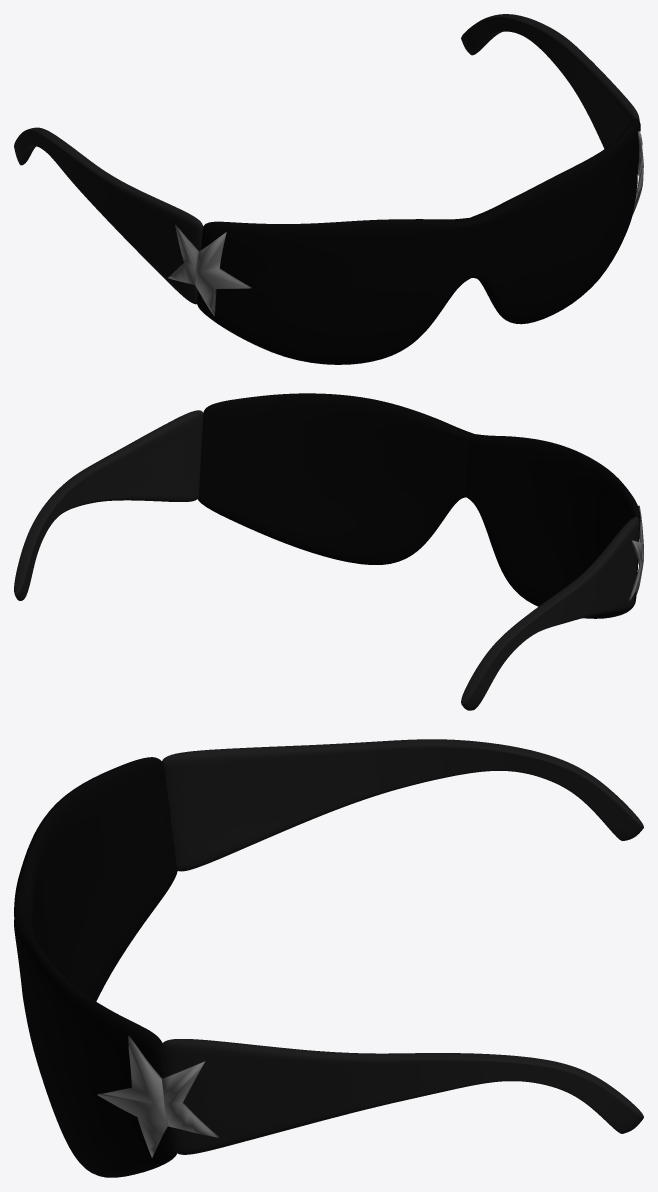
The model's file is prada_star.glb.
3 renders of one model, top to bottom at view 1: azimuth 30°, elevation 25°; view 2: azimuth 150°, elevation 25°; view 3: azimuth 270°, elevation 25°, orthographic. The views are drawn at different scales.
Parts seen in each view (by area): view 1: Object_4, Object_5, Object_6, Object_7; view 2: Object_4, Object_5; view 3: Object_5, Object_4, Object_6, Object_7.
Part boxes in pixels (x1=…): Object_4: x1=197, y1=118, x2=640, y2=364; Object_5: x1=14, y1=14, x2=639, y2=304; Object_6: x1=195, y1=131, x2=643, y2=316; Object_7: x1=168, y1=148, x2=641, y2=284; Object_4: x1=197, y1=393, x2=640, y2=618; Object_5: x1=14, y1=410, x2=639, y2=710; Object_5: x1=161, y1=739, x2=643, y2=1154; Object_4: x1=14, y1=757, x2=177, y2=1177; Object_6: x1=97, y1=1035, x2=168, y2=1157; Object_7: x1=162, y1=1061, x2=218, y2=1137.
Bounding box in the file's own units: 2.95 × 0.8867 × 2.45.
4 materials, 2 textured.
